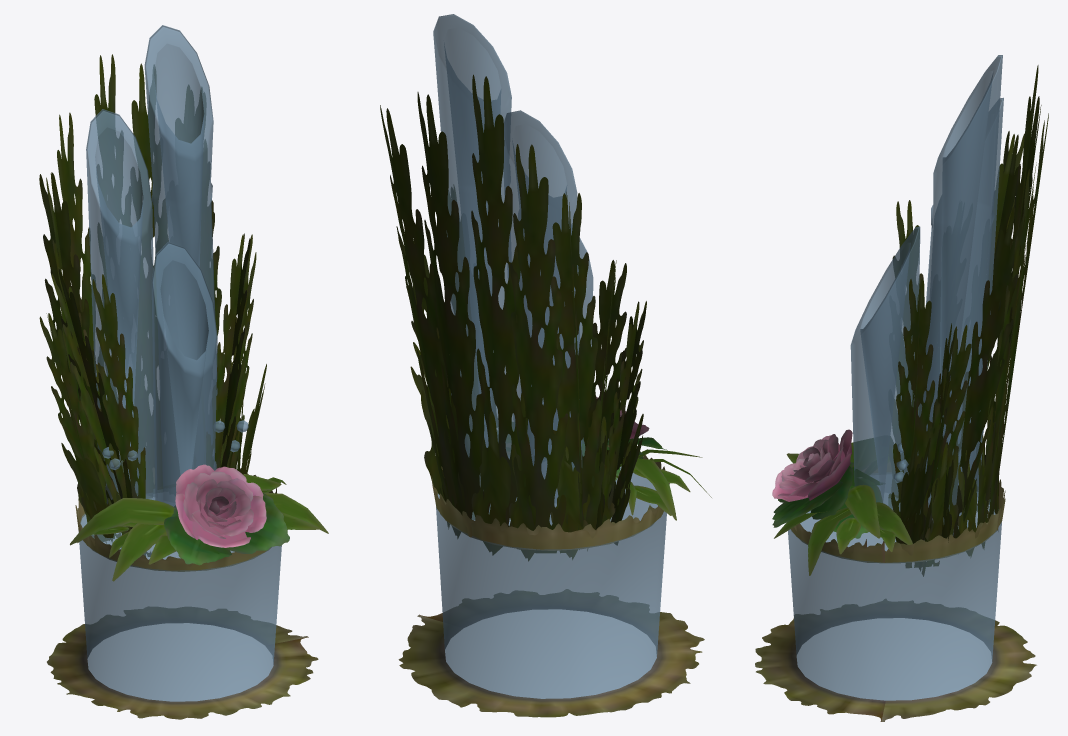
Rendered from kadomatsu.glb.
The picture shows the model from 3 angles, left to right: view 1: azimuth 30°, elevation 25°; view 2: azimuth 150°, elevation 25°; view 3: azimuth 270°, elevation 25°; orthographic projection. The views are drawn at different scales.
Bounding box in the file's own units: 7.54 × 16.69 × 7.46.
Materials: 2 (1 with a texture image).
